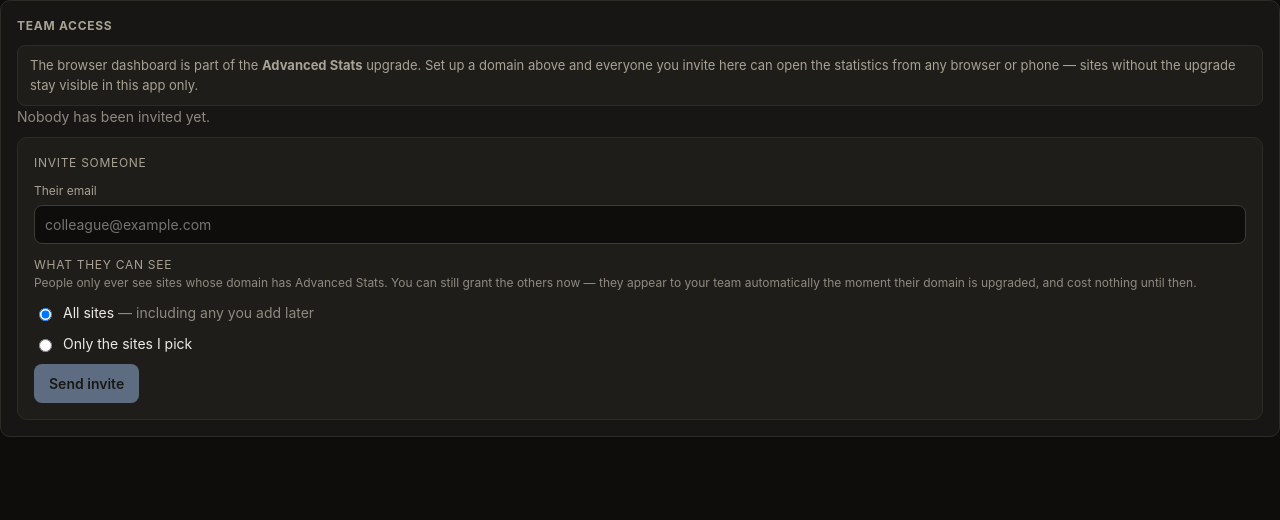
Test: the team list › the site picker says which sites actually appear online — grants aren't purchases
The image size is (1280, 520).
Type "x@x.com" into the field with placeholder "colleague@example.com" at [640, 224], box [34, 205, 1246, 244]
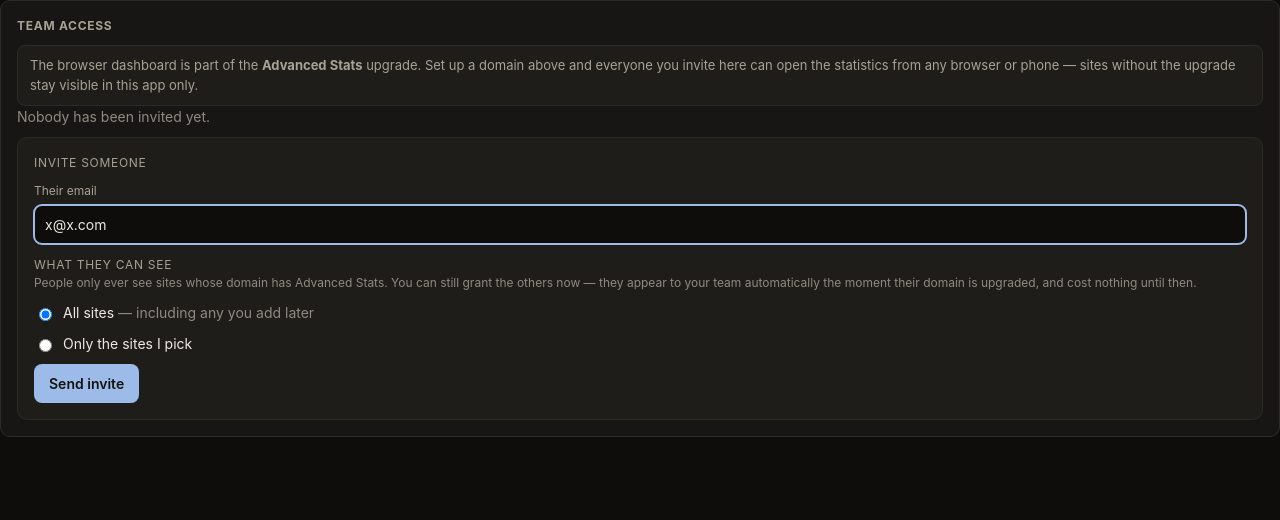
Click the radio button labelled "Only the sites I pick" at [46, 345], box [39, 338, 52, 352]
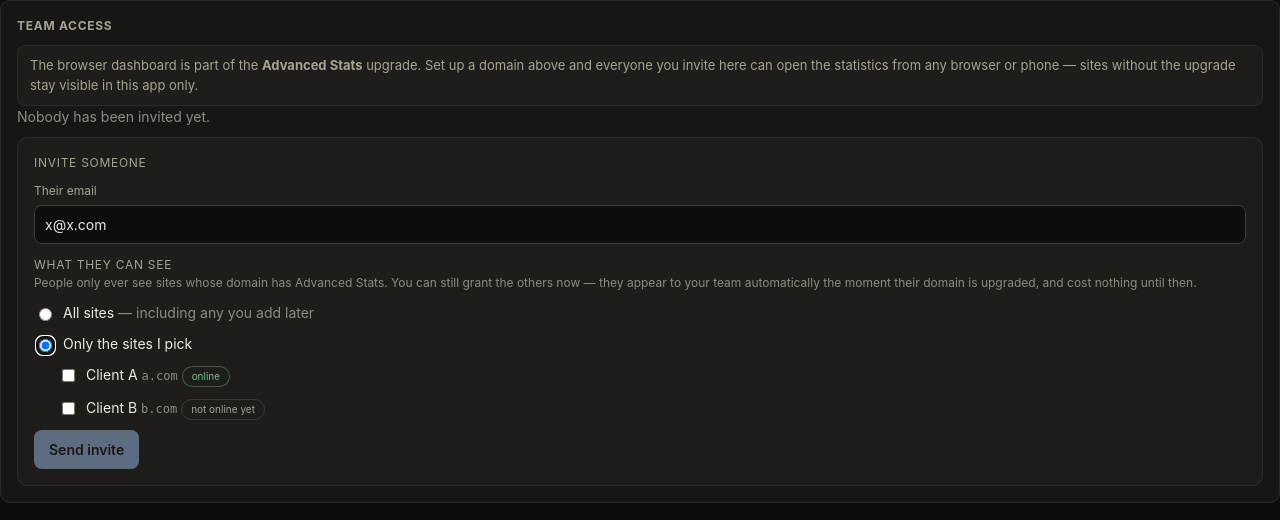
Expected: the text "cost nothing until then" is shown, [34, 275, 1197, 290]
Now the text "online" is shown, box [182, 366, 230, 387]
Now the text "not online yet" is shown, box [181, 399, 265, 420]
